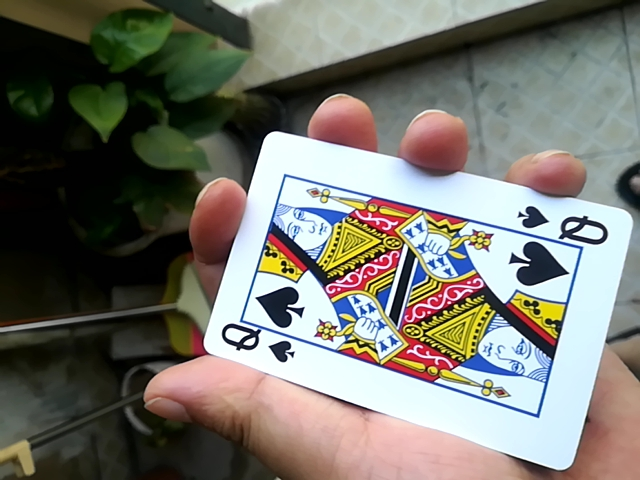ht q: (185, 125, 638, 463)
